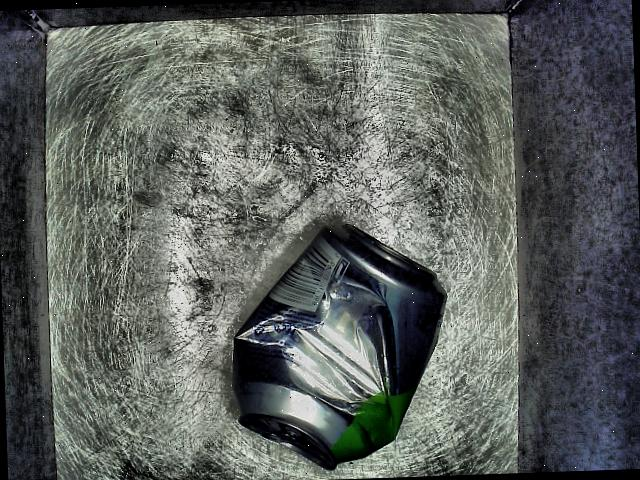Bottles: (217, 205, 470, 474)
